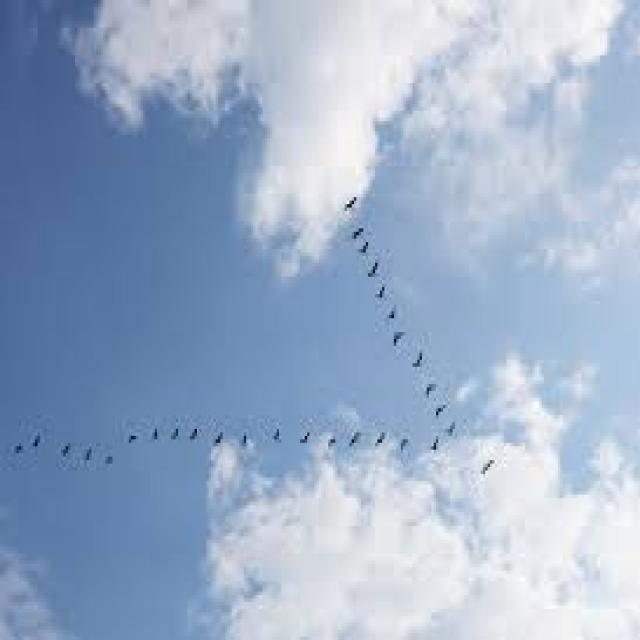bird: (472, 442, 498, 484), (55, 428, 79, 471), (407, 344, 435, 379), (337, 182, 362, 220), (168, 414, 186, 466), (146, 418, 166, 461), (234, 426, 256, 464), (30, 413, 44, 469), (360, 258, 383, 292), (8, 441, 30, 476), (377, 276, 398, 312), (392, 431, 420, 458), (384, 298, 406, 332), (346, 218, 370, 249), (122, 422, 148, 450), (268, 418, 288, 454), (356, 235, 375, 270), (208, 428, 230, 458), (186, 418, 202, 456), (372, 426, 392, 456), (344, 426, 364, 456), (392, 322, 414, 349), (413, 378, 443, 396), (298, 426, 316, 456), (326, 429, 342, 460), (102, 446, 118, 474), (80, 438, 94, 468), (446, 422, 464, 443), (430, 401, 449, 419), (428, 434, 446, 452)
